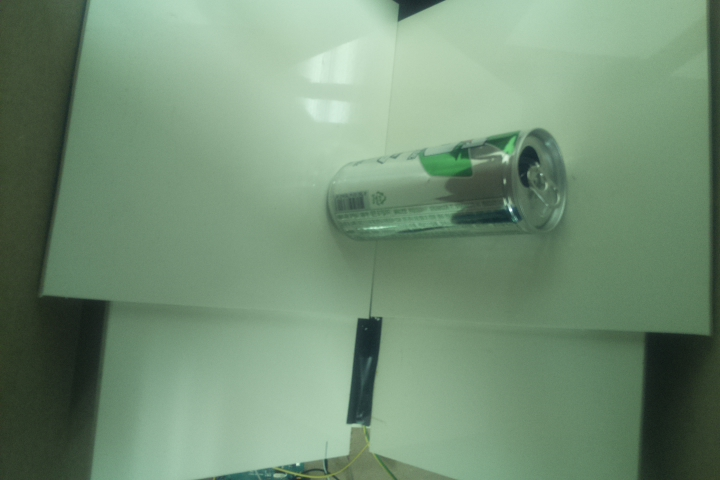can: (322, 120, 568, 245)
